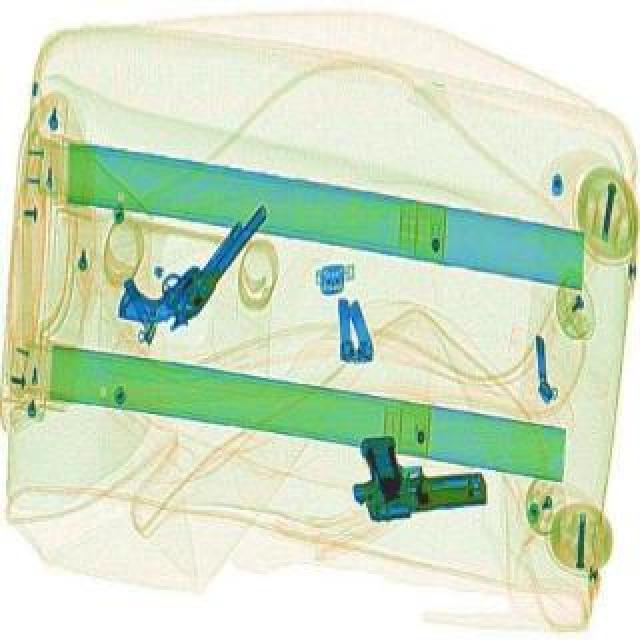gun: (104, 166, 272, 346), (344, 424, 488, 518)
